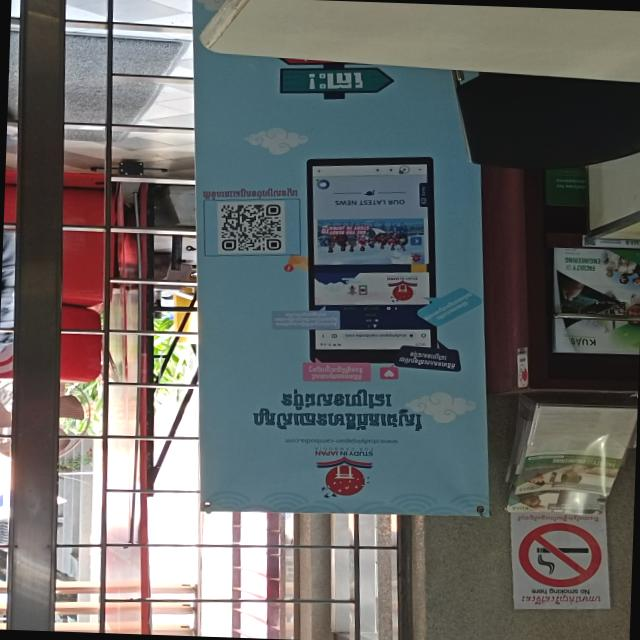Yolov11kh: (247, 408, 426, 435), (277, 387, 394, 409), (200, 186, 299, 201), (395, 347, 456, 371), (306, 363, 364, 382), (315, 70, 365, 92), (516, 594, 602, 606), (514, 513, 601, 523)
